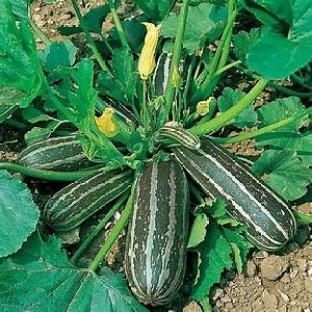Zucchini: (174, 141, 296, 250), (125, 162, 189, 305), (43, 171, 133, 231), (19, 137, 94, 171), (158, 125, 200, 149), (153, 53, 172, 95)
